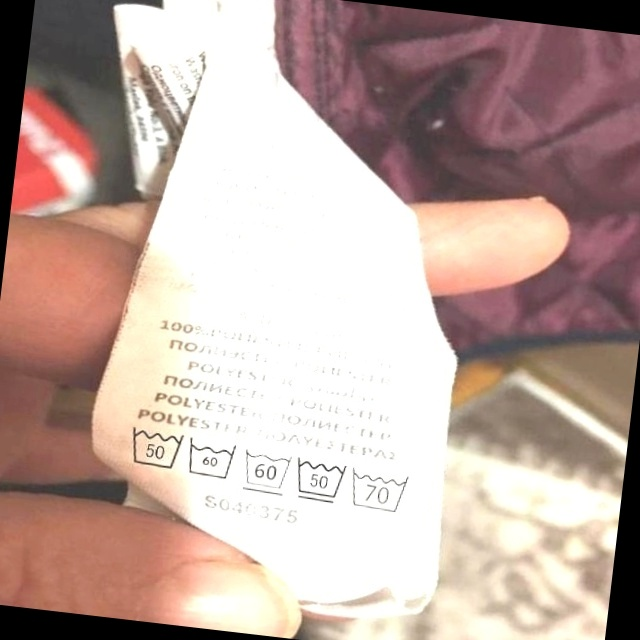50C: (122, 418, 189, 475), (290, 453, 351, 508)
60C: (239, 444, 297, 498), (183, 433, 242, 485)
70C: (347, 465, 416, 517)
